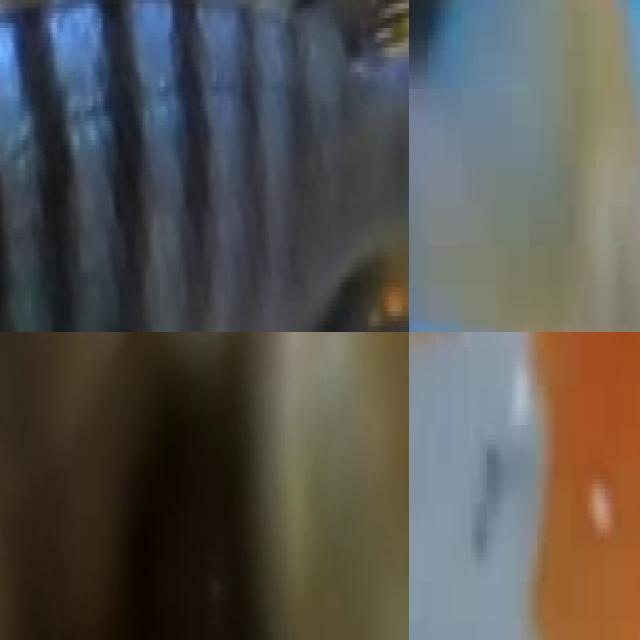fish: (0, 0, 409, 332), (409, 332, 640, 640)
